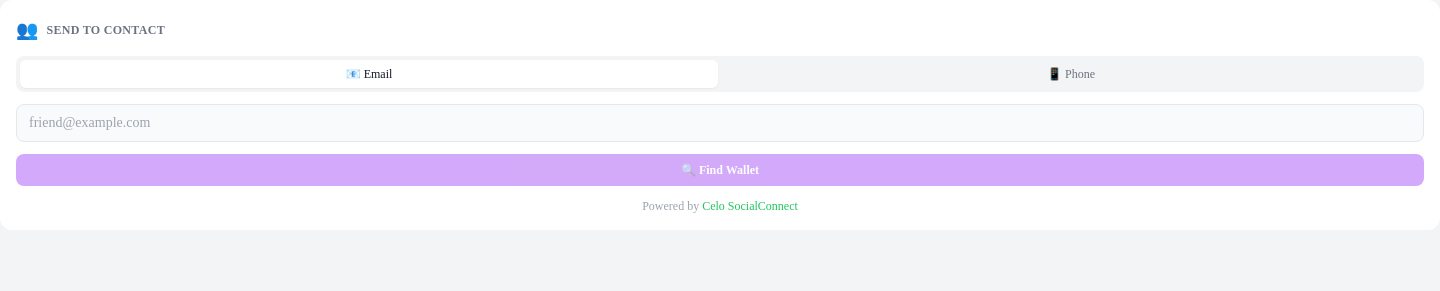
Test case: SocialContactPicker › shows error when no wallet found
Step 1. Type "test@example.com" into the field with placeholder "friend@example.com" → point(720, 123), box [16,104,1424,142]
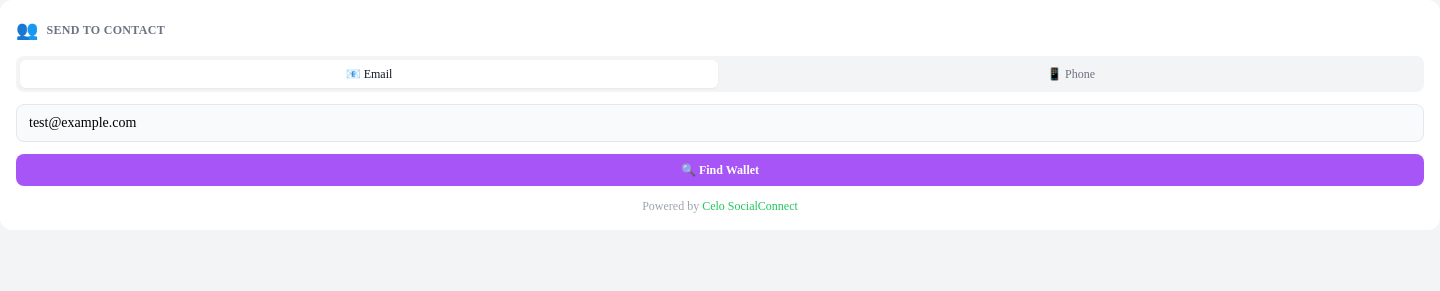
Step 2. Click the button "🔍 Find Wallet" → point(720, 170), box [16,154,1424,186]
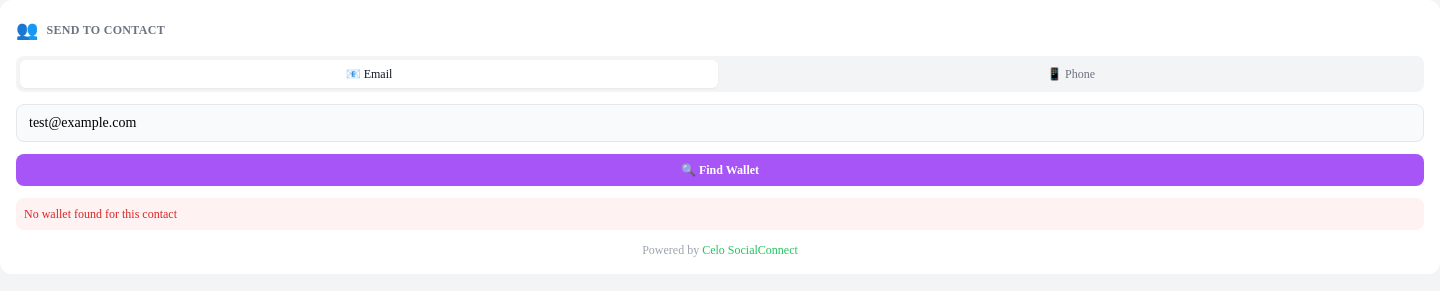
Check: the text "No wallet found for this contact" is shown, box [16,198,1424,230]
